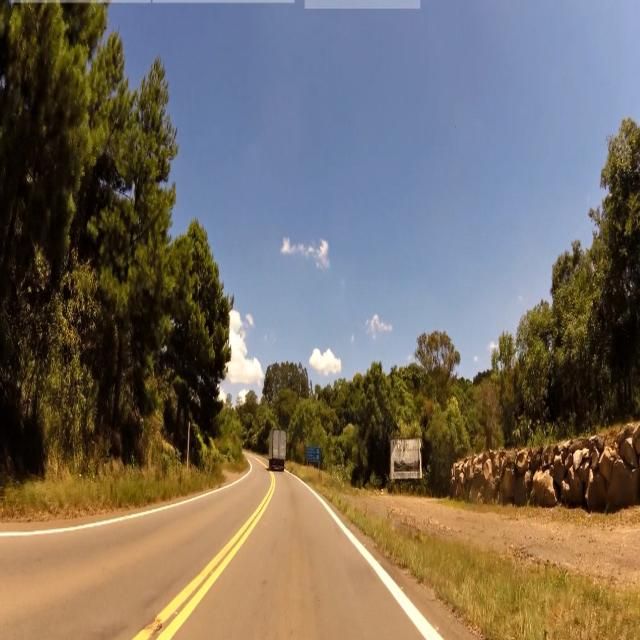A-6: (306, 447, 322, 461)
